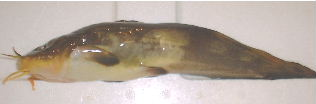gonzui: (3, 22, 316, 94)
